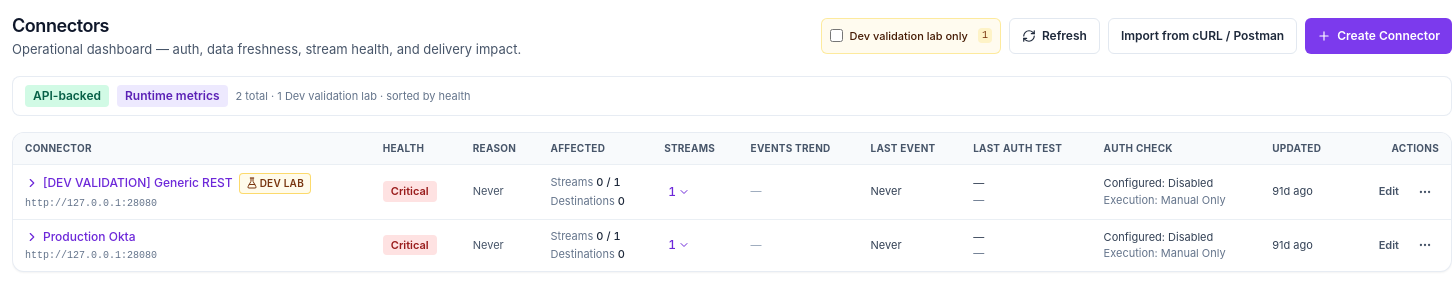
Test: ConnectorsOverviewPage — Dev Validation Lab visibility › "Dev validation lab only" filter hides non-lab connectors
The image size is (1452, 289).
Expected: the button "Production Okta" is shown, 25,228 -> 136,246
Click the checkbox named "Dev validation lab only filter": (837, 36) 830,29 -> 844,42
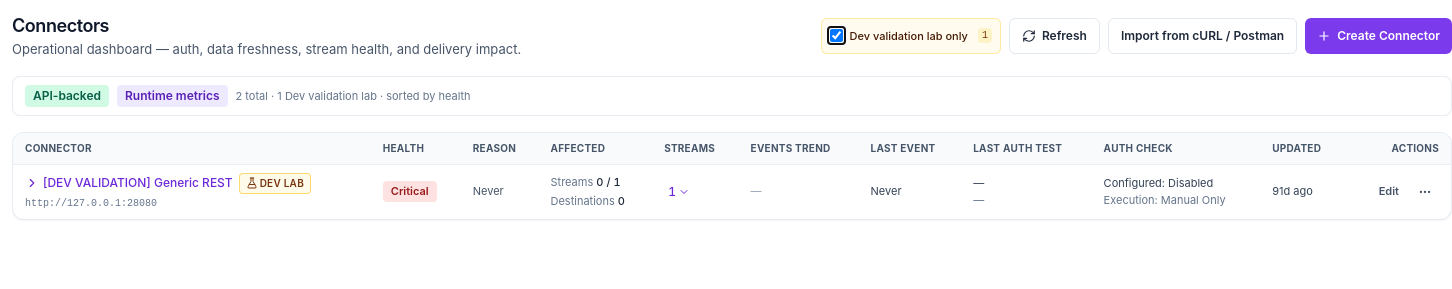
Expected: the button "[DEV VALIDATION] Generic REST" is shown, 25,174 -> 233,192
Expected: the button "Production Okta" is gone
